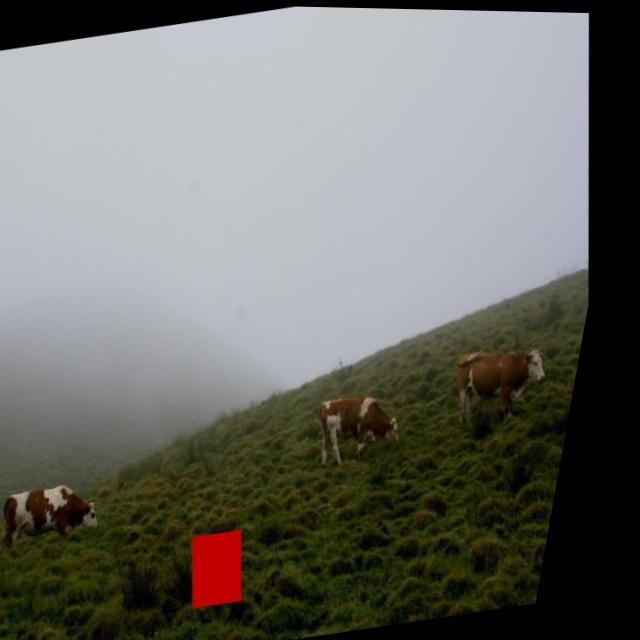RedSquare: (196, 521, 276, 614)
